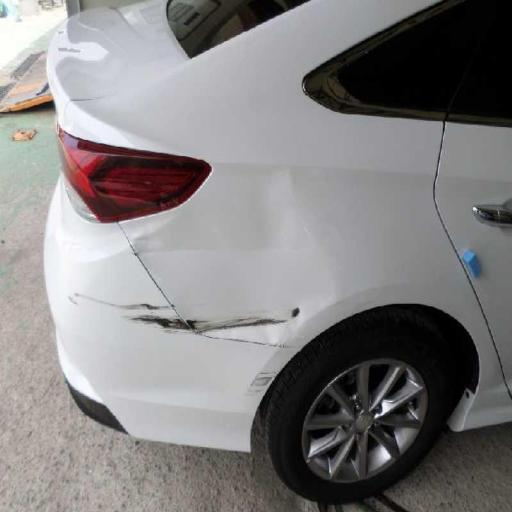scratch: (66, 250, 324, 372)
